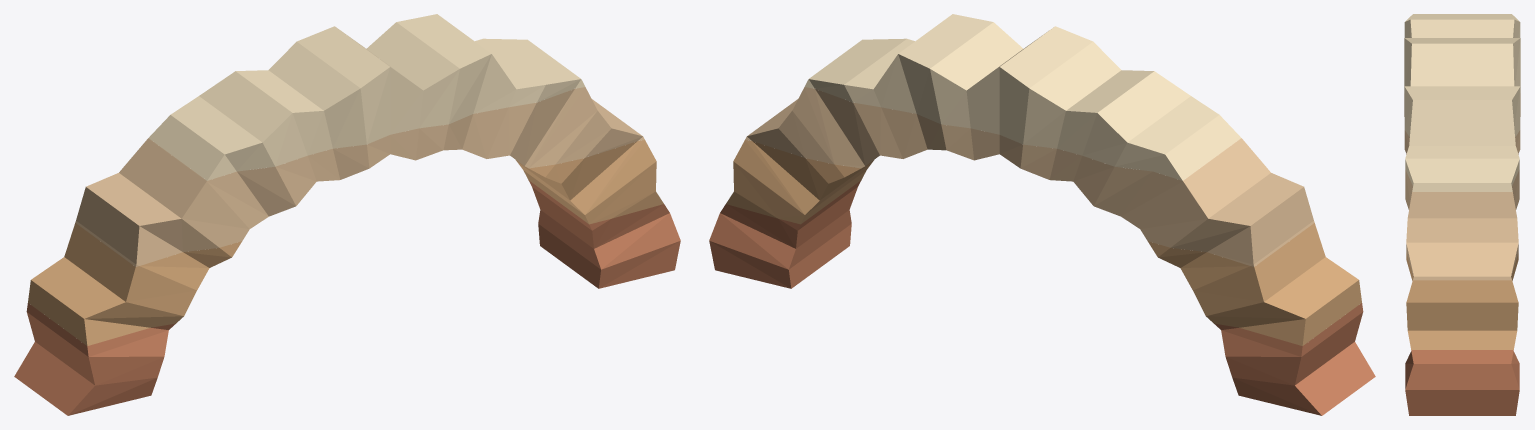
File: desert-canyons-and-oases-bridge-span-d651d4c7__20923.glb
3 views of the same model, side by side, from view 1: azimuth 30°, elevation 25°; view 2: azimuth 150°, elevation 25°; view 3: azimuth 270°, elevation 25° (orthographic). The views are drawn at different scales.
Parts seen in each view (by area): view 1: bridge-span; view 2: bridge-span; view 3: bridge-span.
Part boxes in pixels (bbox=[...]): bridge-span: bbox=[14, 14, 680, 415]; bridge-span: bbox=[709, 14, 1375, 415]; bridge-span: bbox=[1404, 14, 1520, 415].
Size of the model in its own units: 9.57 by 4.08 by 1.74.
